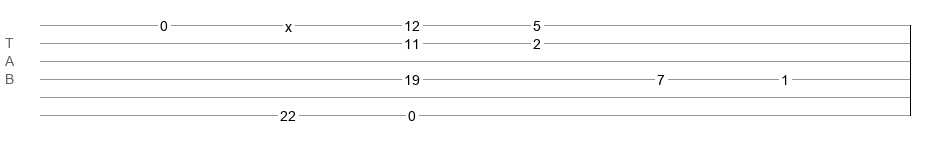0: (160, 18, 168, 28), (408, 108, 416, 118)
1: (781, 72, 789, 82)
11: (404, 36, 420, 46)
12: (404, 18, 420, 28)
19: (404, 72, 420, 82)
2: (533, 36, 541, 46)
22: (280, 108, 296, 118)
5: (533, 18, 541, 28)
7: (657, 72, 665, 82)
x: (285, 19, 292, 27)
